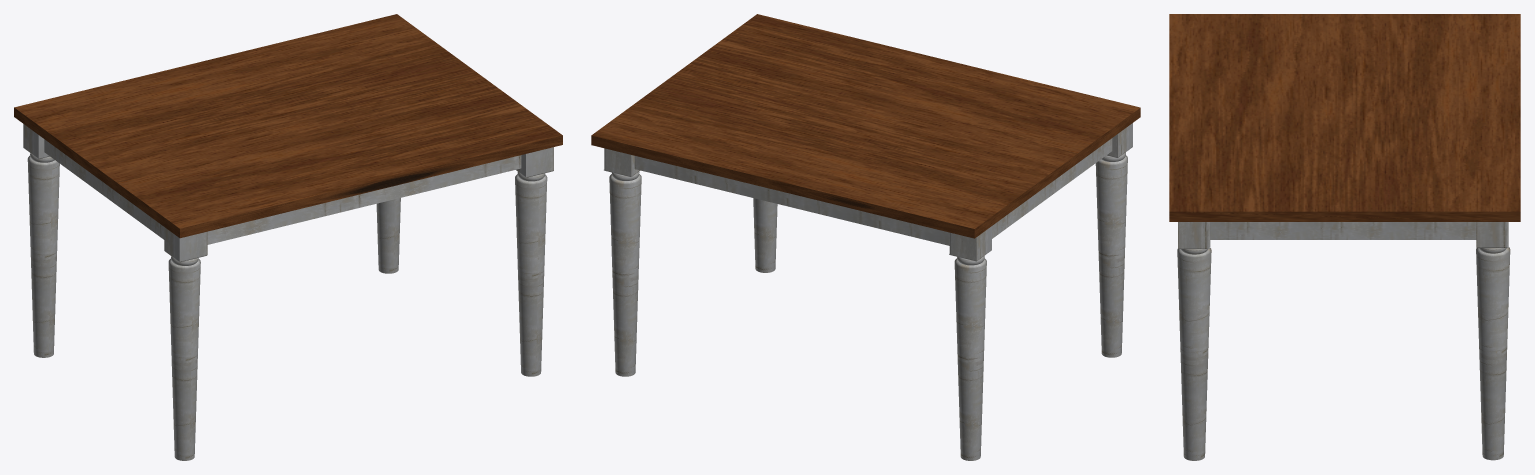
File: kitchenDesk.fbx
The picture shows the model from 3 angles, left to right: view 1: azimuth 30°, elevation 25°; view 2: azimuth 150°, elevation 25°; view 3: azimuth 270°, elevation 25°; orthographic projection. The views are drawn at different scales.
Visible parts, largest first — view 1: Cube, 立方体.004, 円柱.003, 円柱.002, 円柱.001, 円柱.004, 立方体.002, 立方体.003; view 2: Cube, 立方体.004, 円柱.004, 円柱.001, 円柱.002, 円柱.003, 立方体.001, 立方体; view 3: Cube, 円柱.004, 円柱.003, 立方体.004, 立方体.003, 立方体.
Part boxes in pixels (left/top/right/bottom): Cube: left=14, top=14, right=562, bottom=238; 立方体.004: left=44, top=139, right=521, bottom=244; 円柱.003: left=515, top=174, right=547, bottom=376; 円柱.002: left=168, top=258, right=200, bottom=460; 円柱.001: left=27, top=155, right=59, bottom=357; 円柱.004: left=376, top=198, right=400, bottom=273; 立方体.002: left=164, top=227, right=207, bottom=262; 立方体.003: left=516, top=147, right=553, bottom=177; Cube: left=591, top=14, right=1140, bottom=238; 立方体.004: left=634, top=138, right=1112, bottom=245; 円柱.004: left=609, top=174, right=641, bottom=376; 円柱.001: left=954, top=258, right=986, bottom=460; 円柱.002: left=1095, top=155, right=1127, bottom=357; 円柱.003: left=753, top=198, right=777, bottom=272; 立方体.001: left=949, top=226, right=991, bottom=261; 立方体: left=604, top=148, right=639, bottom=176; Cube: left=1169, top=14, right=1520, bottom=221; 円柱.004: left=1476, top=247, right=1510, bottom=460; 円柱.003: left=1177, top=248, right=1211, bottom=460; 立方体.004: left=1210, top=222, right=1476, bottom=239; 立方体.003: left=1178, top=222, right=1210, bottom=248; 立方体: left=1476, top=222, right=1508, bottom=247.
Bounding box in the file's own units: 400 × 240 × 300.
